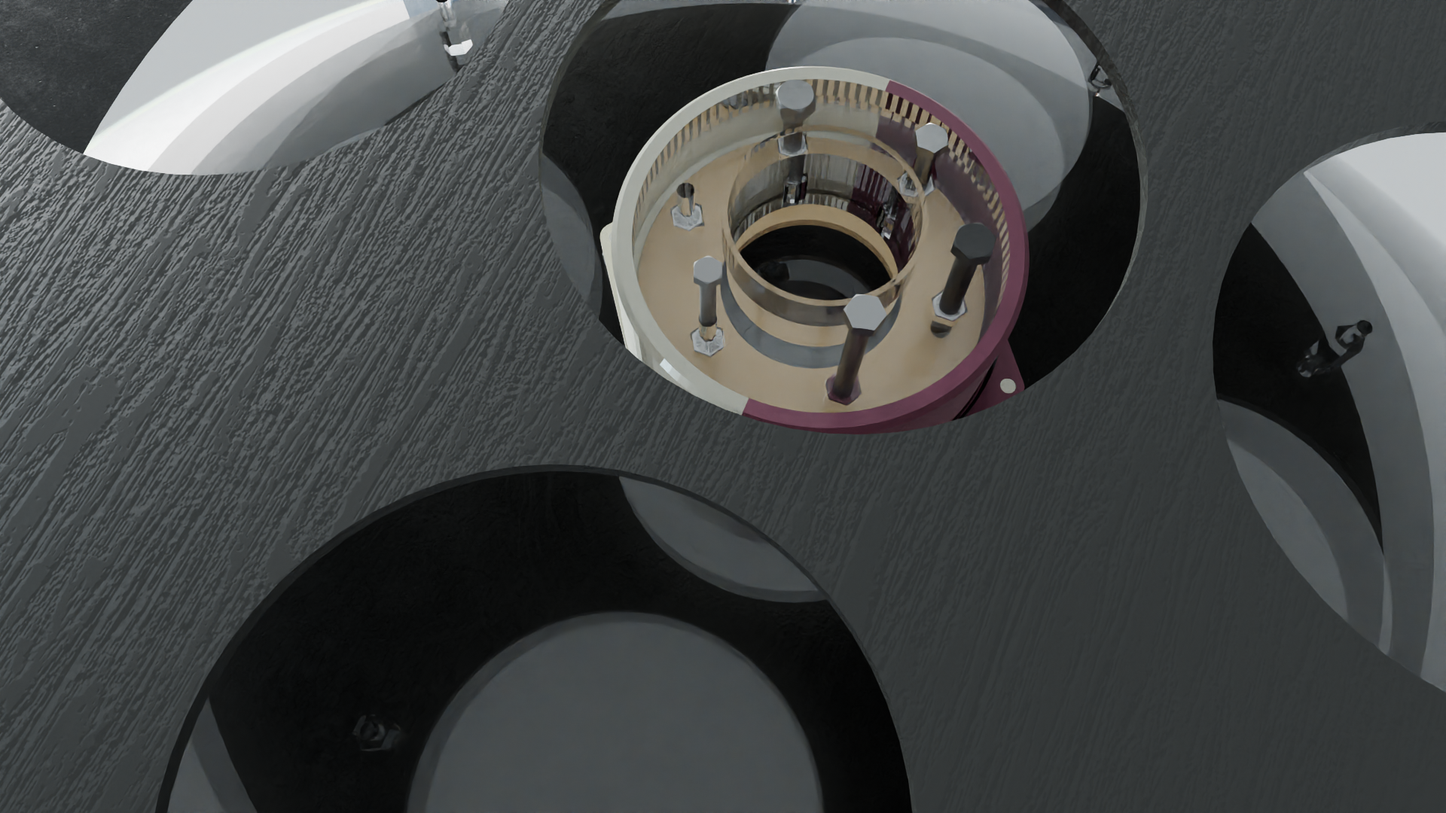bolt: (953, 222, 996, 260), (843, 294, 887, 330), (775, 79, 816, 114), (916, 123, 949, 153), (694, 255, 722, 285)
